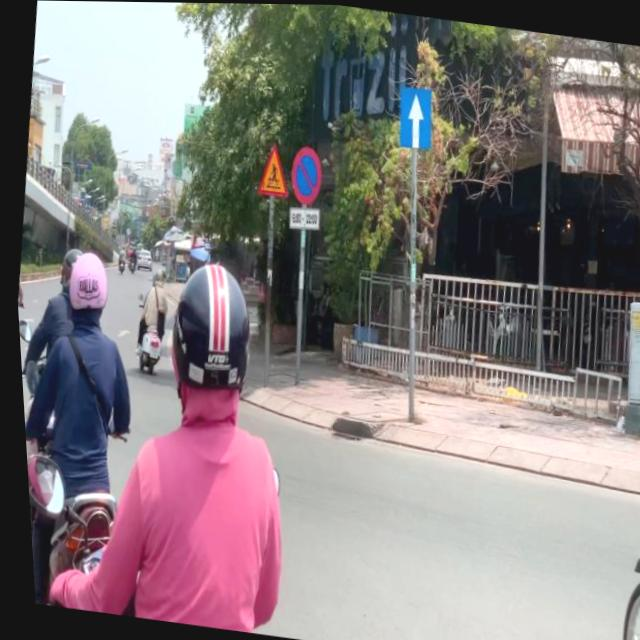Cam do xe: (283, 142, 324, 205)
Duong mot chieu: (392, 83, 437, 152)
Nguoi di bo cat ngang: (249, 137, 293, 201)
